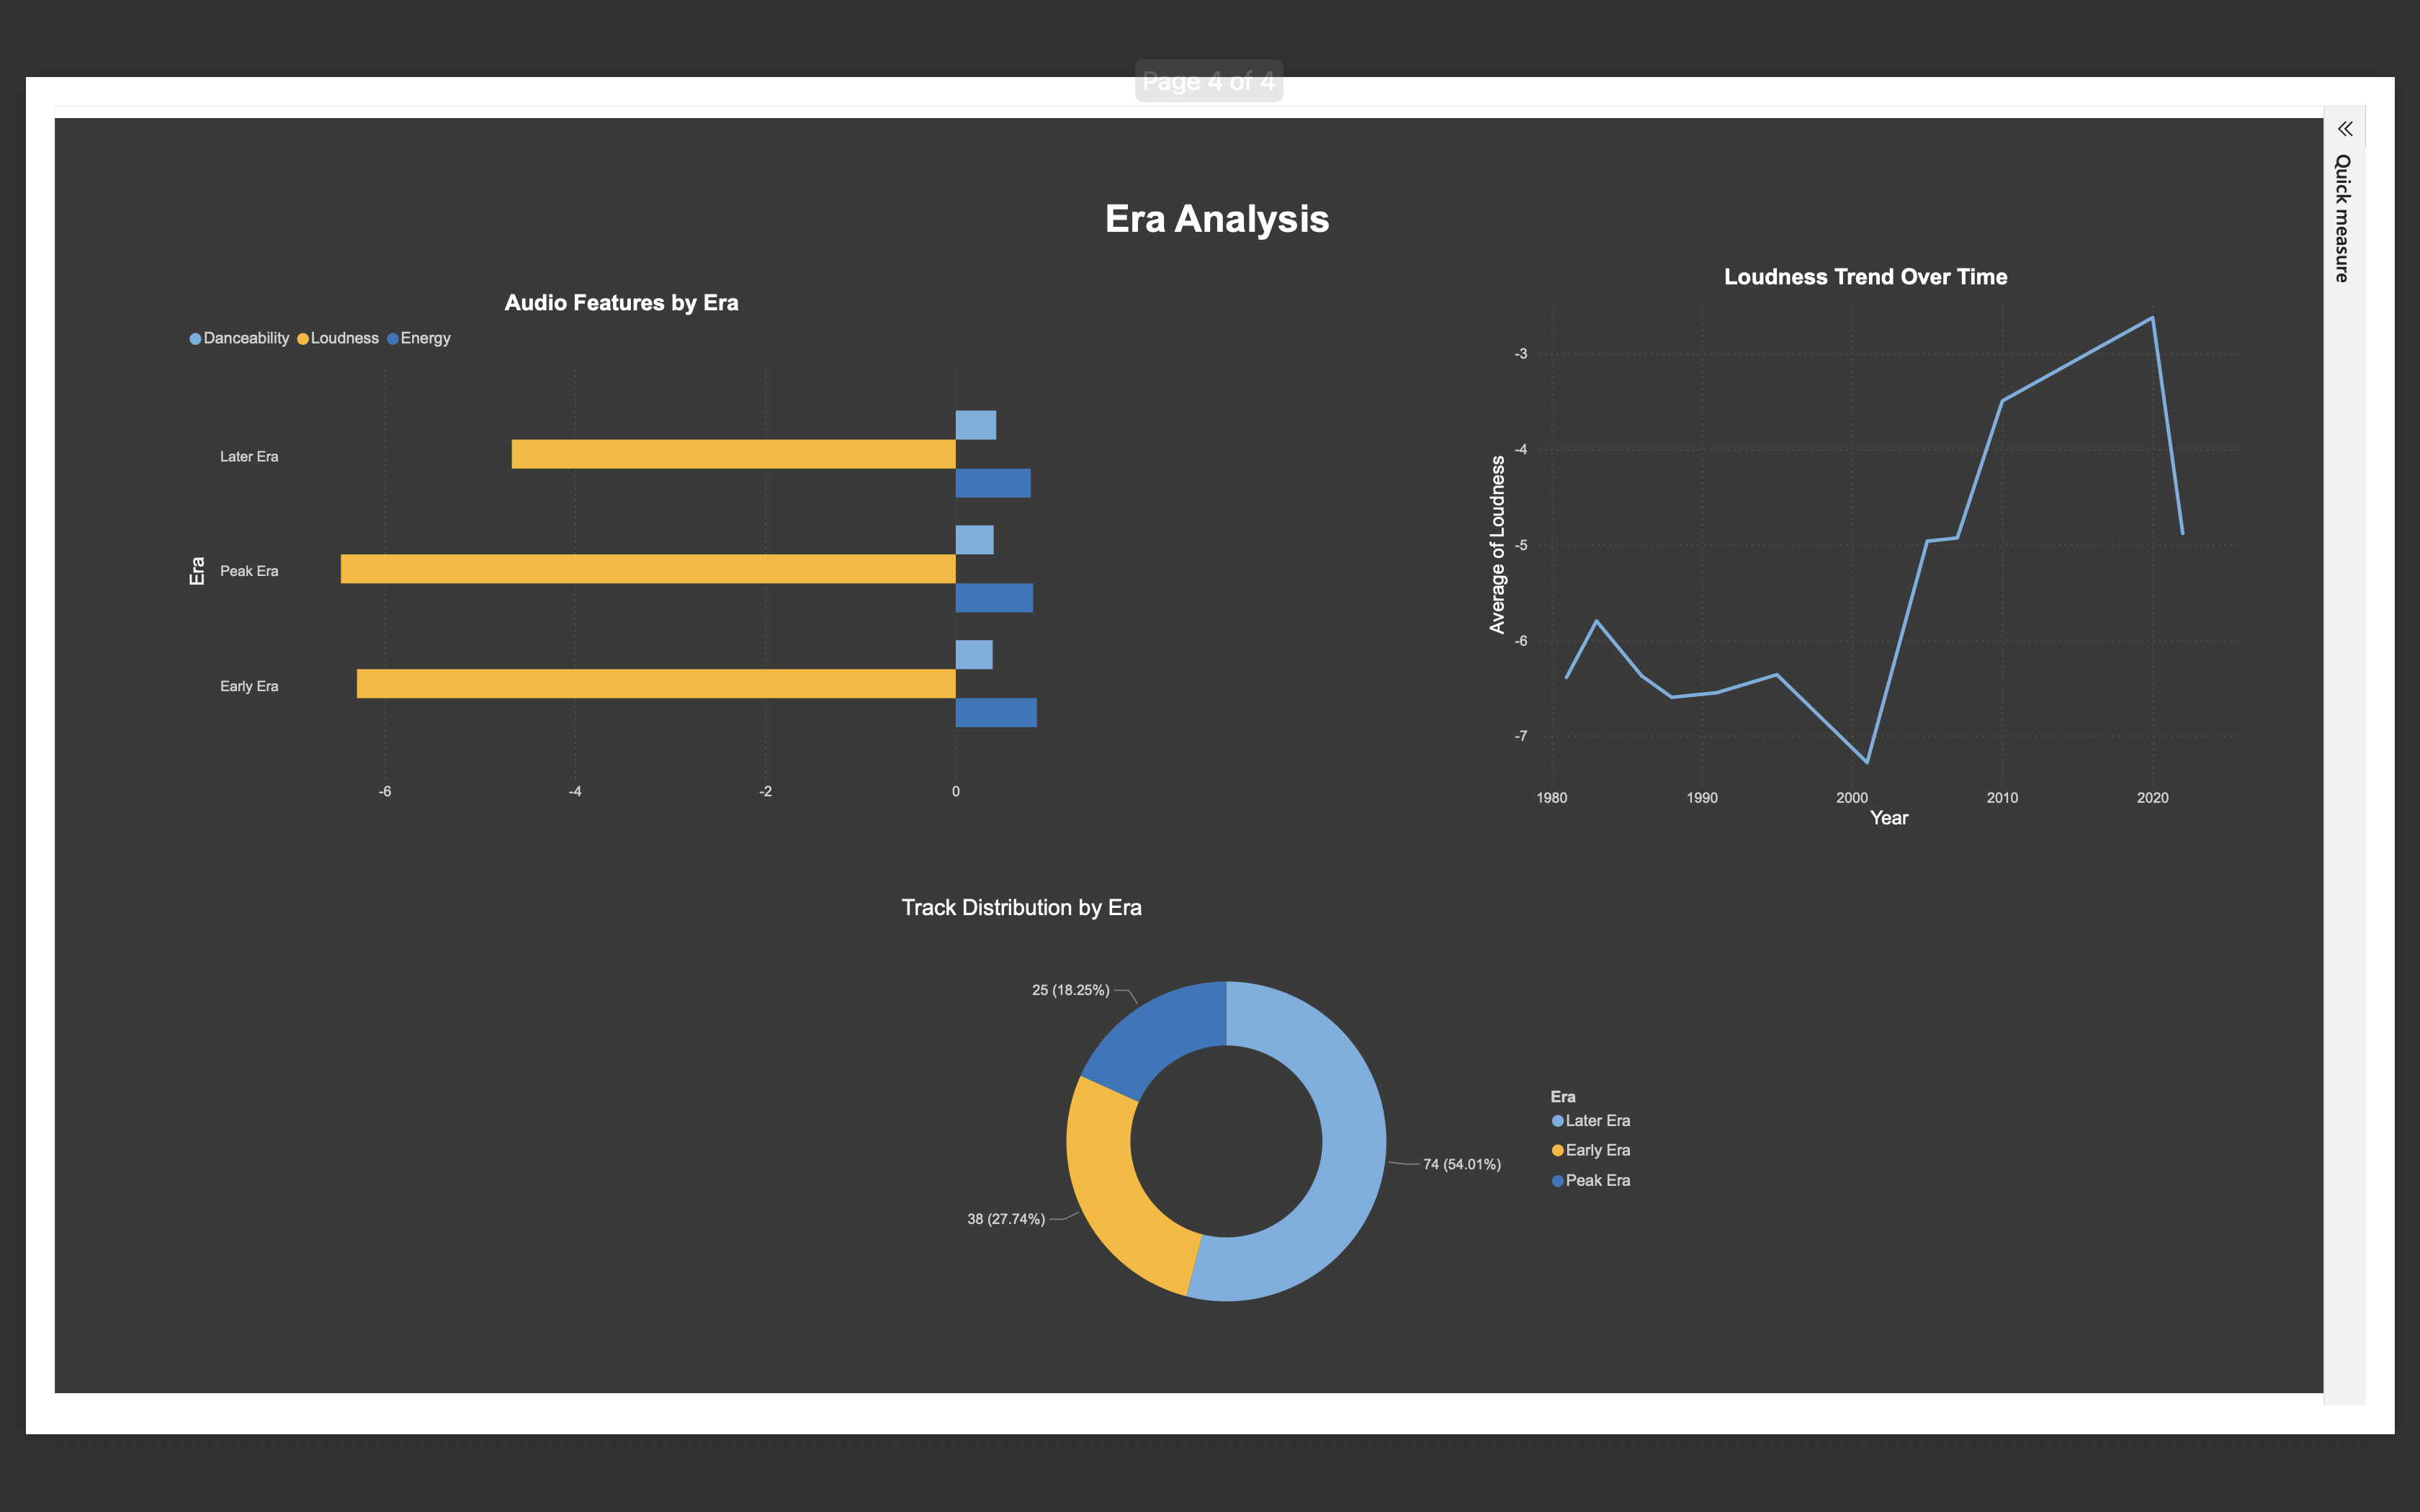

What the dashboard file says about the page in this screenshot:
{"tool":"powerbi","page":{"name":"Era Analysis","canvas":[1920,1080],"ordinal":3},"visuals":[{"type":"clusteredBarChart","title":"Audio Features by Era","fields":{"Category":["OzzyOsbourneAlbumTracks 2 (2).Era"],"Y":["Avg(OzzyOsbourneAlbumTracks 2 (2).Danceability)","Avg(OzzyOsbourneAlbumTracks 2 (2).Loudness)","Avg(OzzyOsbourneAlbumTracks 2 (2).Energy)"]},"box":[108,146,744,440],"z":0},{"type":"lineChart","title":"Loudness Trend Over Time","fields":{"Category":["OzzyOsbourneAlbumTracks 2 (2).Year"],"Y":["Avg(OzzyOsbourneAlbumTracks 2 (2).Loudness)"]},"box":[1208,124,650,482],"z":1000},{"type":"donutChart","title":"Track Distribution by Era","fields":{"Category":["OzzyOsbourneAlbumTracks 2 (2).Era"],"Y":["CountNonNull(OzzyOsbourneAlbumTracks 2 (2).Track)"]},"box":[712,658,636,396],"z":2000},{"type":"textbox","box":[884,62,220,62],"z":3000}]}

Visuals, with their boxes on the page's 1920x1080 design canvas (x1, y1, x2, y2). These are canvas units, not pixel positions in the 2420x1512 screenshot, which may show the page scaled, cropped or inside an application window:
"Audio Features by Era" clusteredBarChart: [108, 146, 852, 586]
"Loudness Trend Over Time" lineChart: [1208, 124, 1858, 606]
"Track Distribution by Era" donutChart: [712, 658, 1348, 1054]
textbox: [884, 62, 1104, 124]
